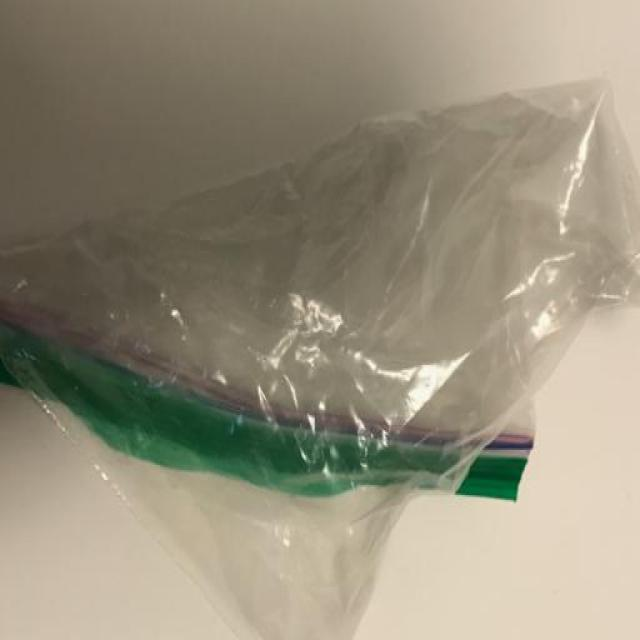Random Trash: (0, 75, 640, 640)
